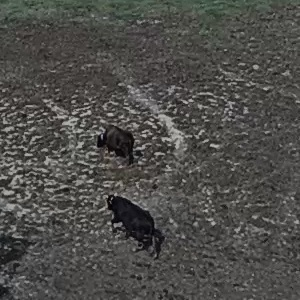cow: (98, 187, 179, 261), (87, 118, 155, 169)
